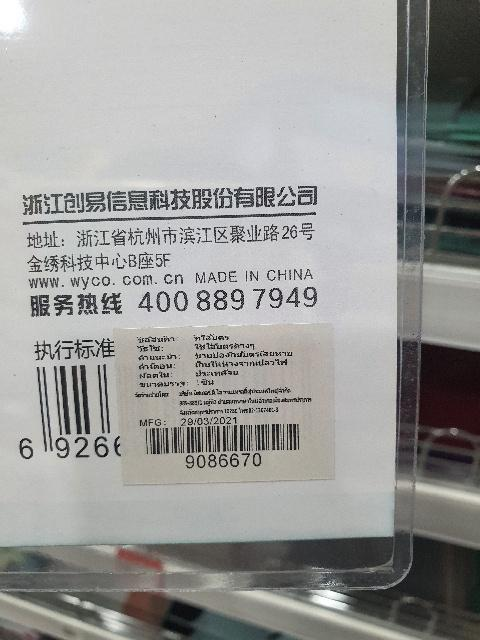Barcode: (141, 419, 312, 471)
